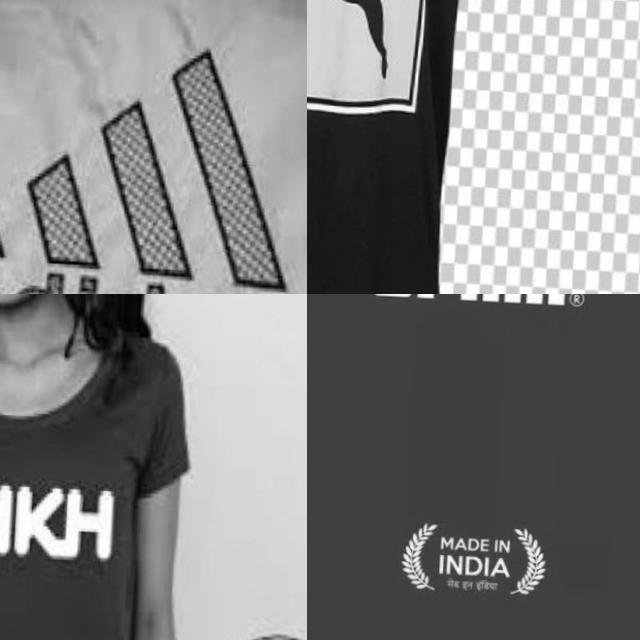ADIDAS_fake: (0, 0, 307, 294)
FILA_fake: (0, 450, 126, 586)
PUMA_fake: (336, 294, 640, 338)
PUMA_original: (307, 0, 420, 100)
